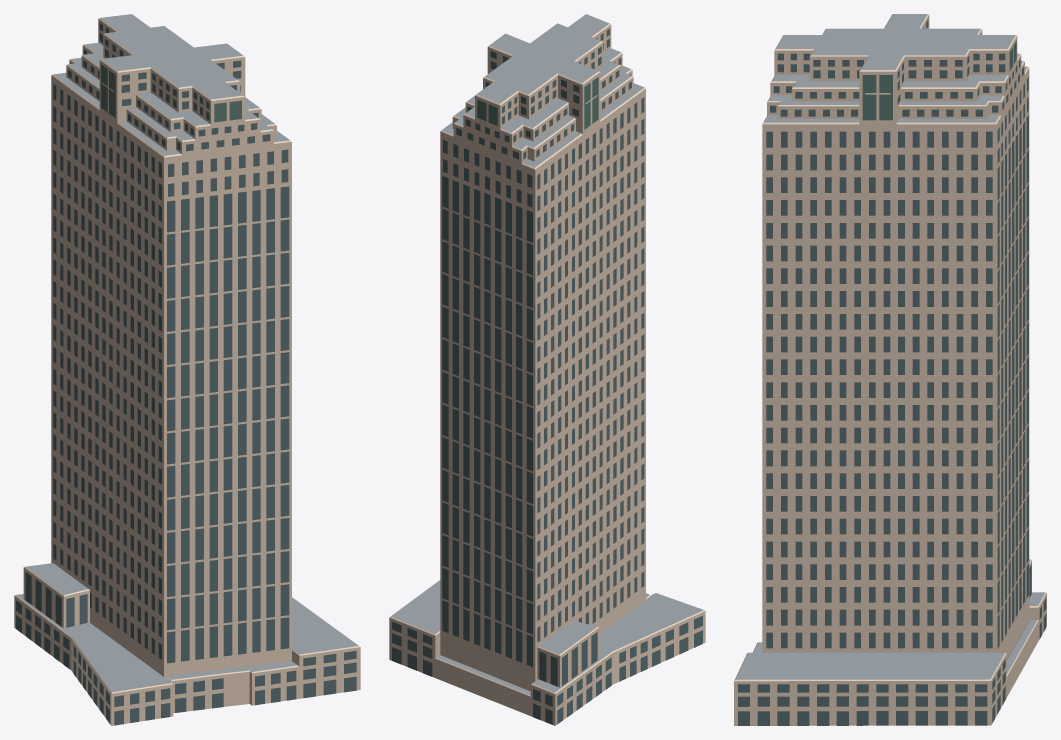
File: nola-place-st-charles.glb
3 renders of one model, left to right at view 1: azimuth 30°, elevation 25°; view 2: azimuth 150°, elevation 25°; view 3: azimuth 270°, elevation 25°, orthographic. The views are drawn at different scales.
Visible parts, largest first — view 1: Place St. Charles; view 2: Place St. Charles; view 3: Place St. Charles.
Boxes of the visible parts, left/top/right/bottom form: Place St. Charles: left=14, top=14, right=360, bottom=725; Place St. Charles: left=389, top=14, right=705, bottom=725; Place St. Charles: left=734, top=14, right=1046, bottom=725.
Size of the model in its own units: 76.33 by 197 by 88.78.
